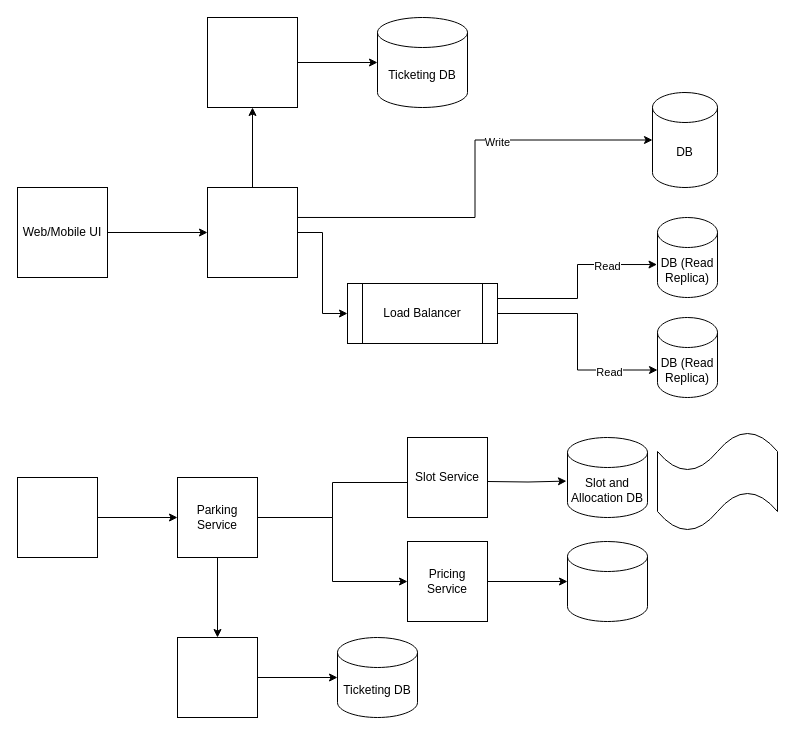
Image size: 795x735. Some labels were removed from this diagram. Here are the shapes that lost their labels. From the top down, the centre of each, then its label:
point 252,62: 3rd Party Payment Integration
point 252,232: Backend Server
point 717,481: Need concurrency
point 57,517: User
point 607,581: Pricing and Policies DB
point 217,677: Parking Cache
